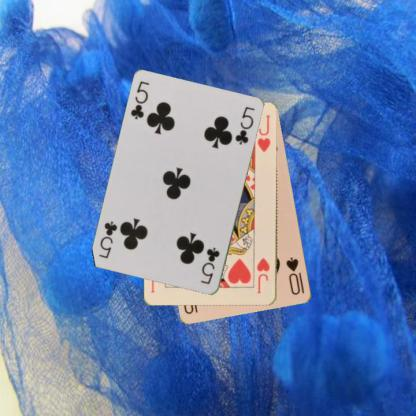10s: (284, 255, 306, 296)
5c: (128, 78, 151, 121), (198, 245, 221, 286)
Jh: (254, 255, 272, 295)
